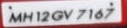character: (7, 11, 21, 24), (51, 9, 63, 21), (22, 11, 33, 23), (75, 8, 86, 20), (40, 10, 49, 22), (63, 9, 72, 19)
